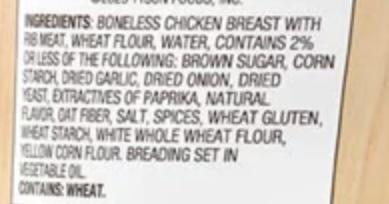ingredients: (15, 8, 340, 201)
